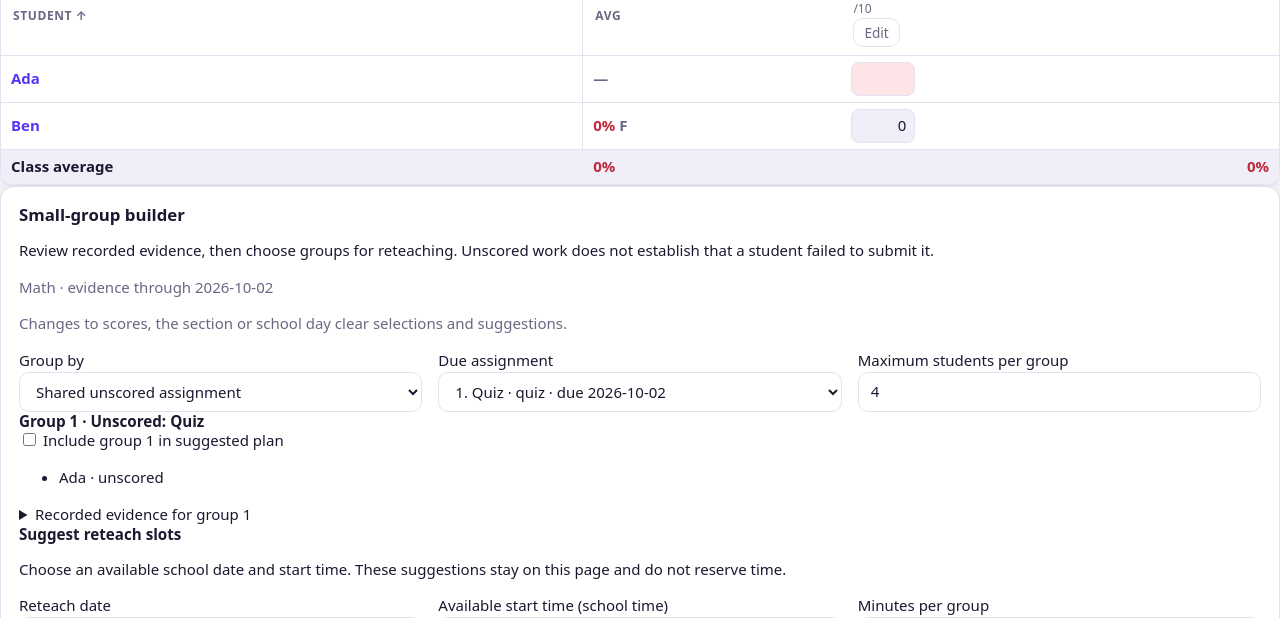
preserves a reviewed plan after a same-day calendar poll while withholding actions during the read
The width and height of the screenshot is (1280, 618).
Click the checkbox labelled "Include group 1 in suggested plan" at [30, 440], box x1=23 y1=433 x2=36 y2=446
(page scrolled)
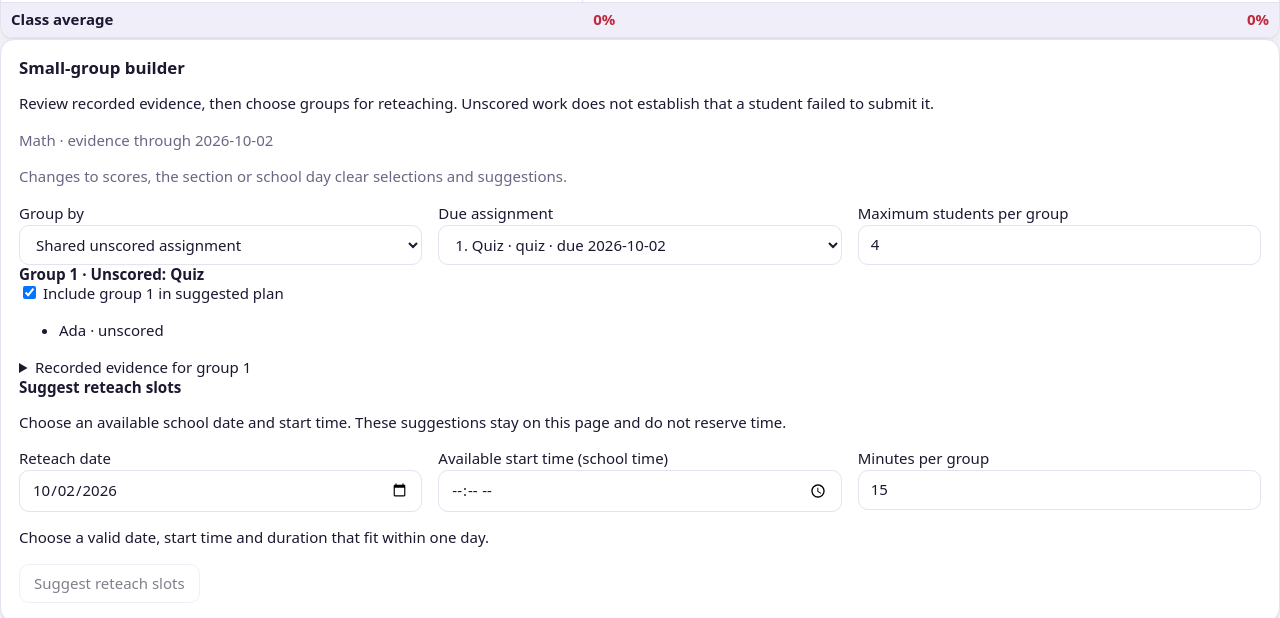
Type "09:00" into the time field labelled "Available start time (school time)" at [640, 491], box x1=438 y1=470 x2=842 y2=512
(page scrolled)
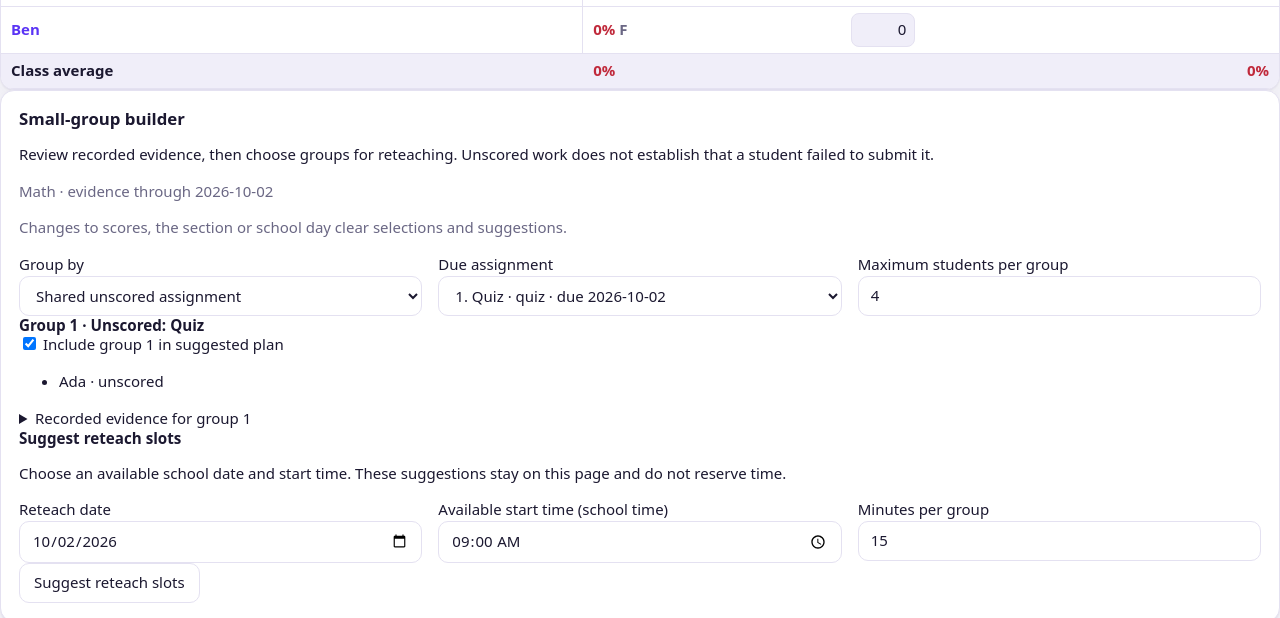
Click the button "Suggest reteach slots" at [109, 583], box x1=19 y1=563 x2=200 y2=603
(page scrolled)
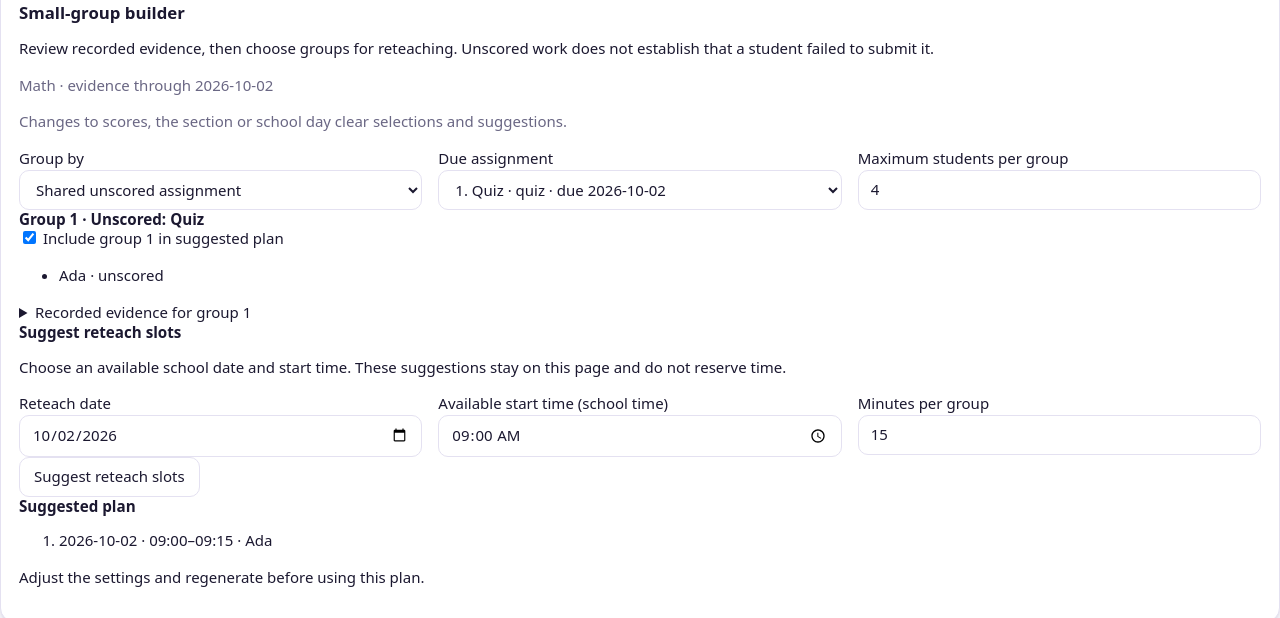
Expected: the checkbox is checked, x1=23 y1=231 x2=36 y2=244
Expected: the element named "Suggested reteach plan" shows "09:00–09:15", x1=19 y1=496 x2=424 y2=587
